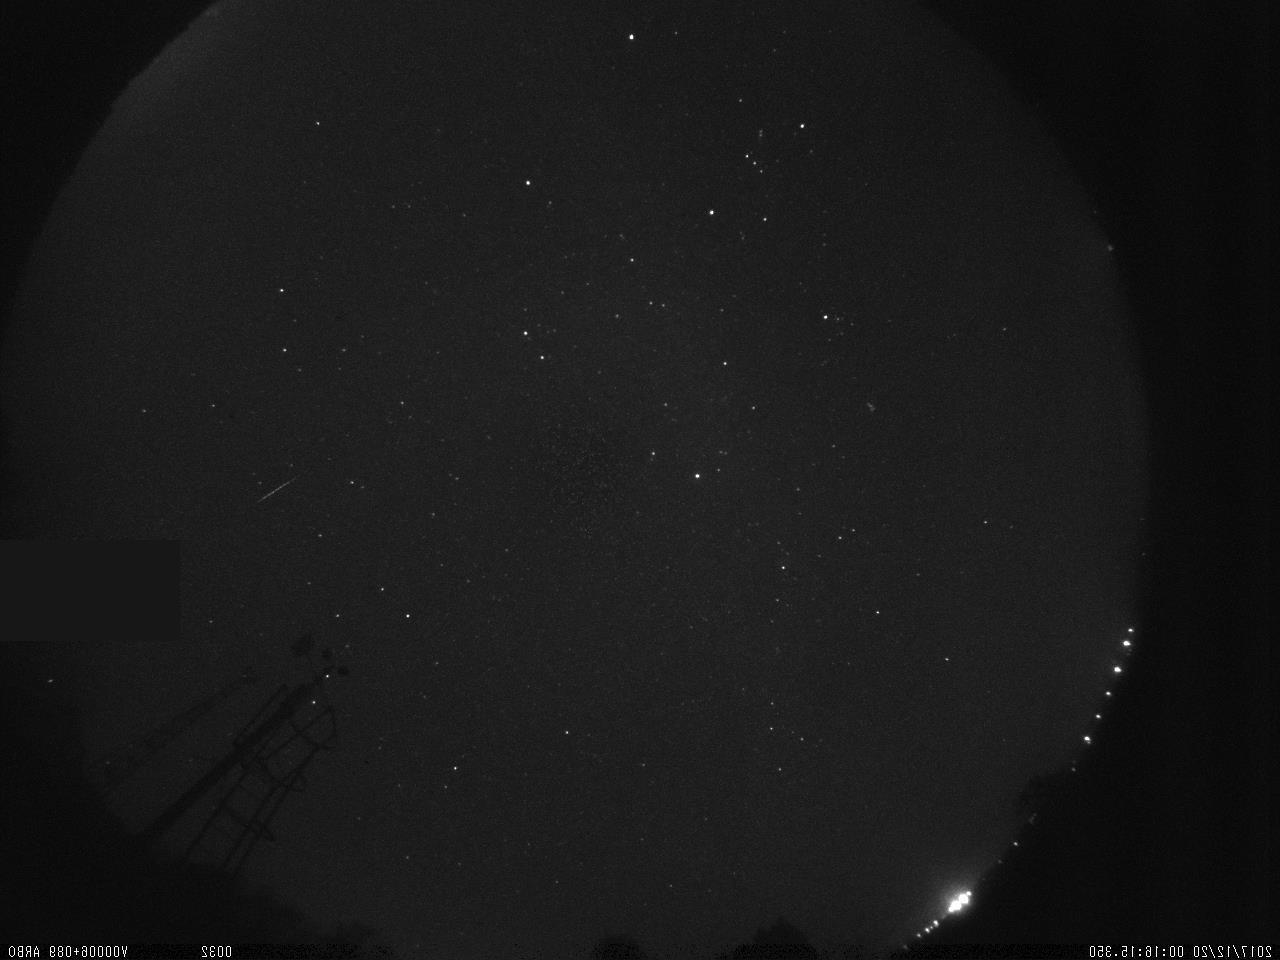meteor: (245, 470, 309, 508)
